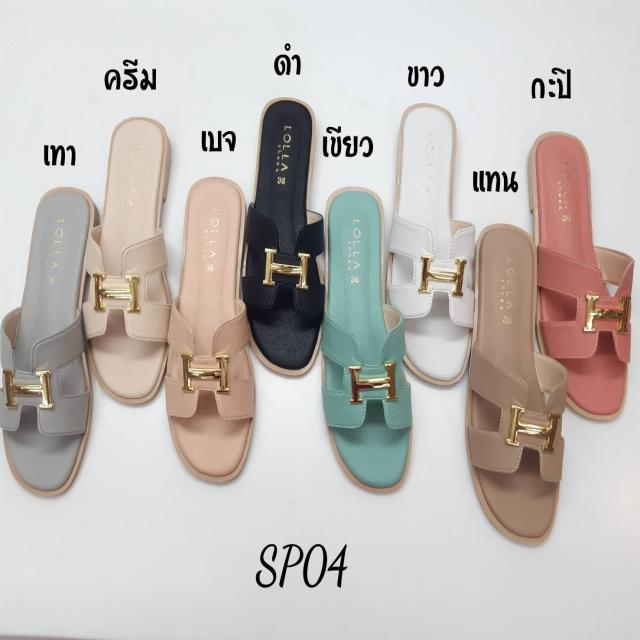bej: (170, 183, 262, 482)
black: (246, 94, 326, 371)
cream: (90, 116, 169, 397)
green: (318, 185, 408, 487)
grey: (3, 186, 92, 504)
kapi: (528, 136, 634, 420)
tan: (472, 223, 560, 545)
white: (392, 103, 476, 388)
